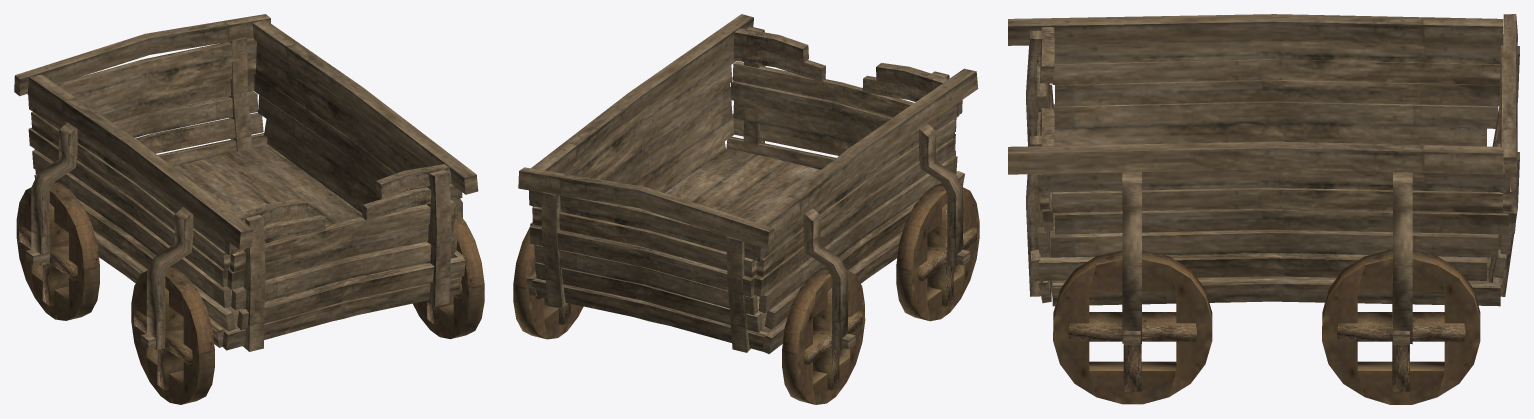
File: germ_wagon_cc.dae
The picture shows the model from 3 angles, left to right: view 1: azimuth 30°, elevation 25°; view 2: azimuth 150°, elevation 25°; view 3: azimuth 270°, elevation 25°; orthographic projection. The views are drawn at different scales.
Parts seen in each view (by area): view 1: Sparta; view 2: Sparta; view 3: Sparta.
Part boxes in pixels (<box>): Sparta: <box>14,14,484,404</box>; Sparta: <box>513,14,979,404</box>; Sparta: <box>1008,14,1519,404</box>.
Size of the model in its own units: 5.5 by 6.49 by 3.46.
